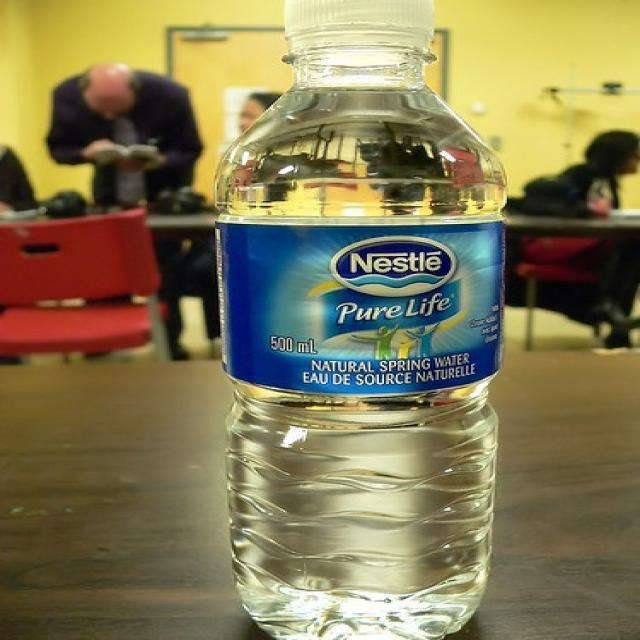plastic_bottle: (214, 1, 509, 639)
